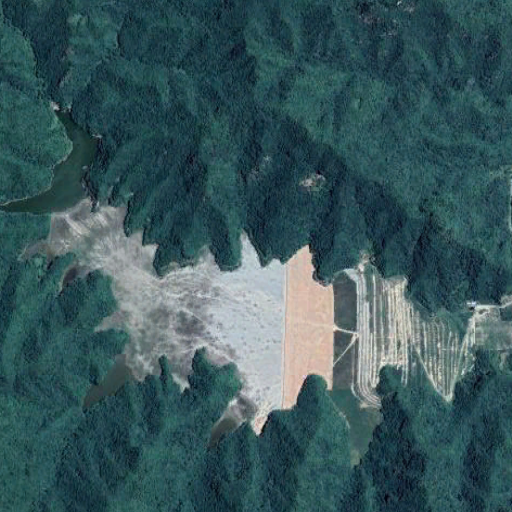tp: (12, 104, 411, 437)
